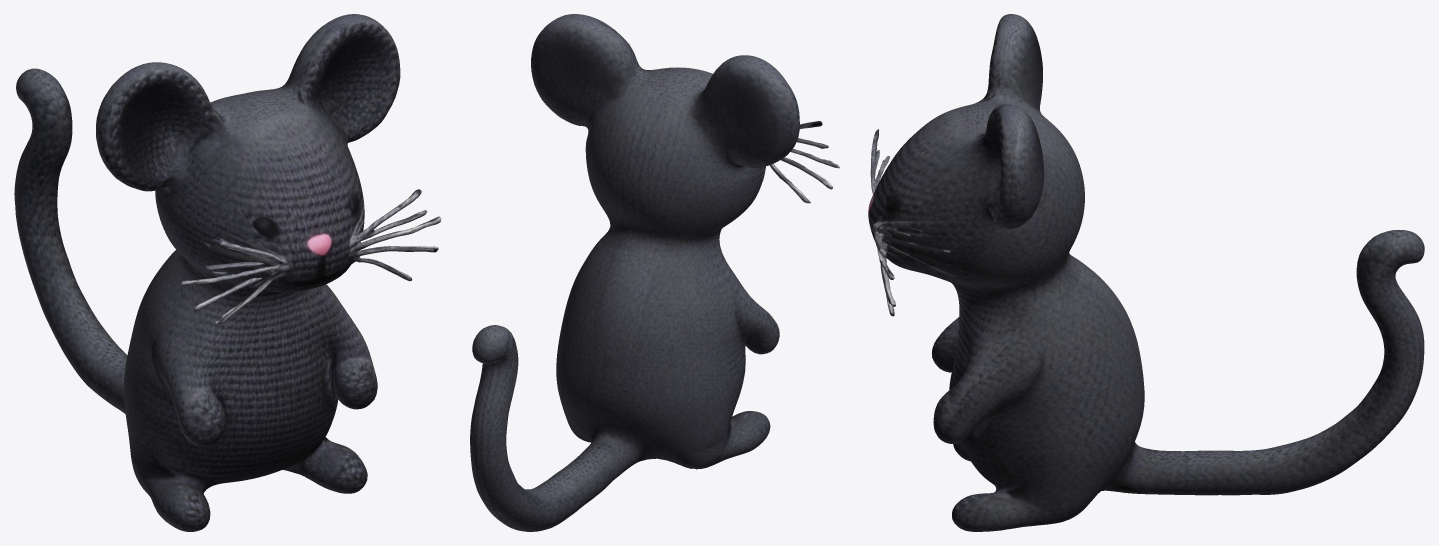
The model's file is Toy1.fbx.
3 renders of one model, left to right at view 1: azimuth 30°, elevation 25°; view 2: azimuth 150°, elevation 25°; view 3: azimuth 270°, elevation 25°, orthographic. The views are drawn at different scales.
Visible parts, largest first — view 1: mouse_1; view 2: mouse_1; view 3: mouse_1.
Part boxes in pixels (x1,y1,x2,y2): mouse_1: (14,14,441,531); mouse_1: (470,14,839,531); mouse_1: (868,14,1424,531).
Bounding box in the file's own units: 118 × 172 × 200.
Materials: 1 (1 with a texture image).
